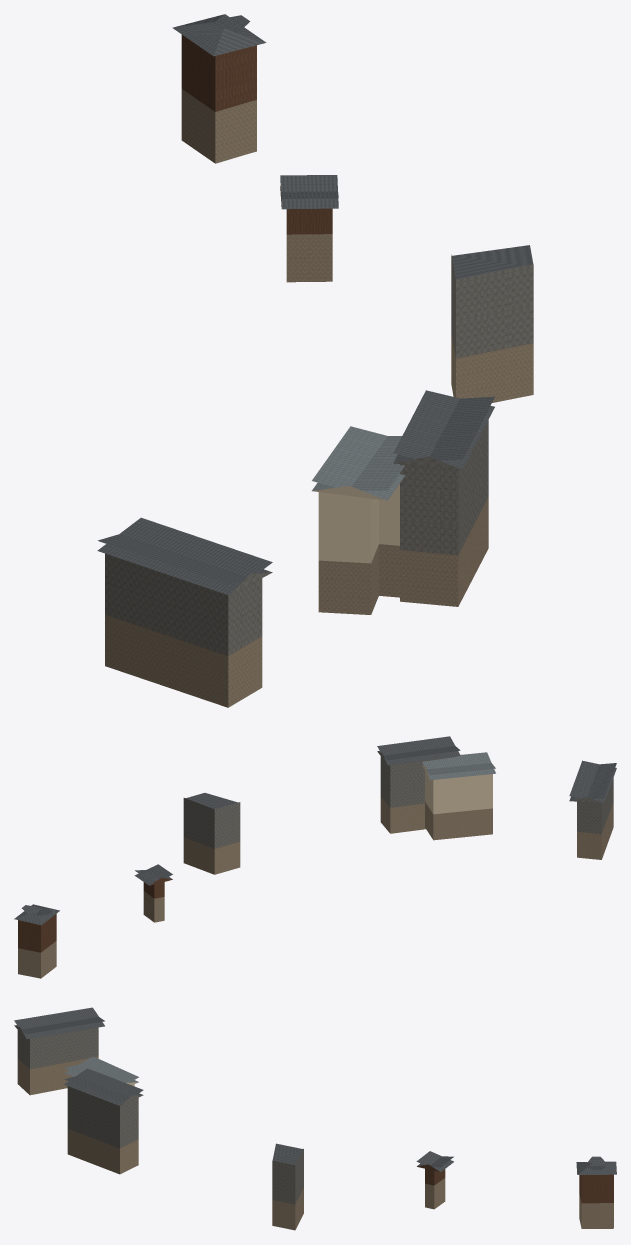
File: bld_c38_-12_535.gltf
3 renders of one model, top to bottom at view 1: azimuth 30°, elevation 25°; view 2: azimuth 150°, elevation 25°; view 3: azimuth 270°, elevation 25°, orthographic. The views are drawn at different scales.
Visible parts, largest first — view 1: bld_c38_-12_535; view 2: bld_c38_-12_535; view 3: bld_c38_-12_535.
Boxes of the visible parts, box(x1,y1,x2,y2) form: bld_c38_-12_535: box(97, 14, 533, 707); bld_c38_-12_535: box(14, 736, 616, 978); bld_c38_-12_535: box(14, 1007, 616, 1230).
Bounding box in the file's own units: 67.46 × 15.4 × 108.
Materials: 9 (9 with a texture image).
